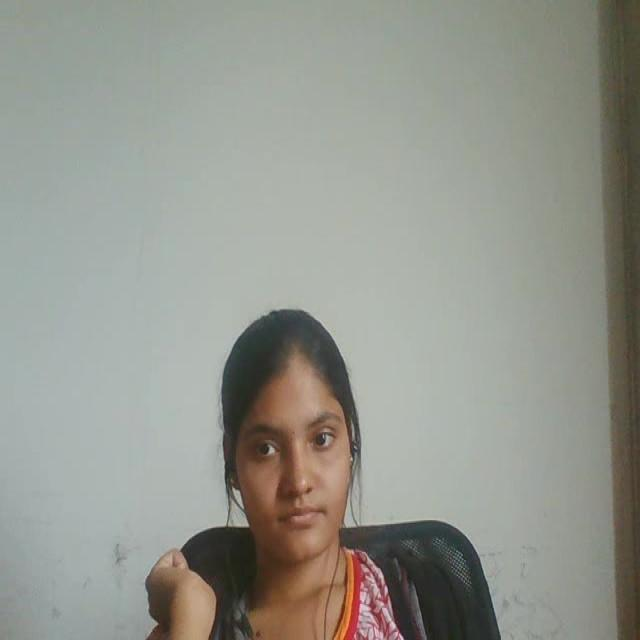Engaged: (204, 264, 365, 590)
